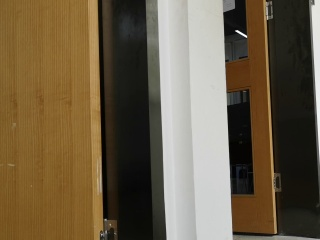room: (2, 1, 176, 239), (218, 3, 318, 239)
